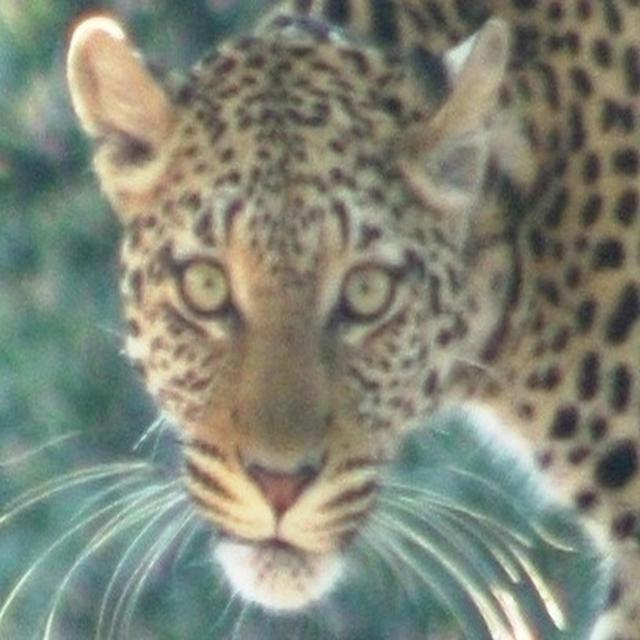Leopard: (48, 0, 640, 636)
